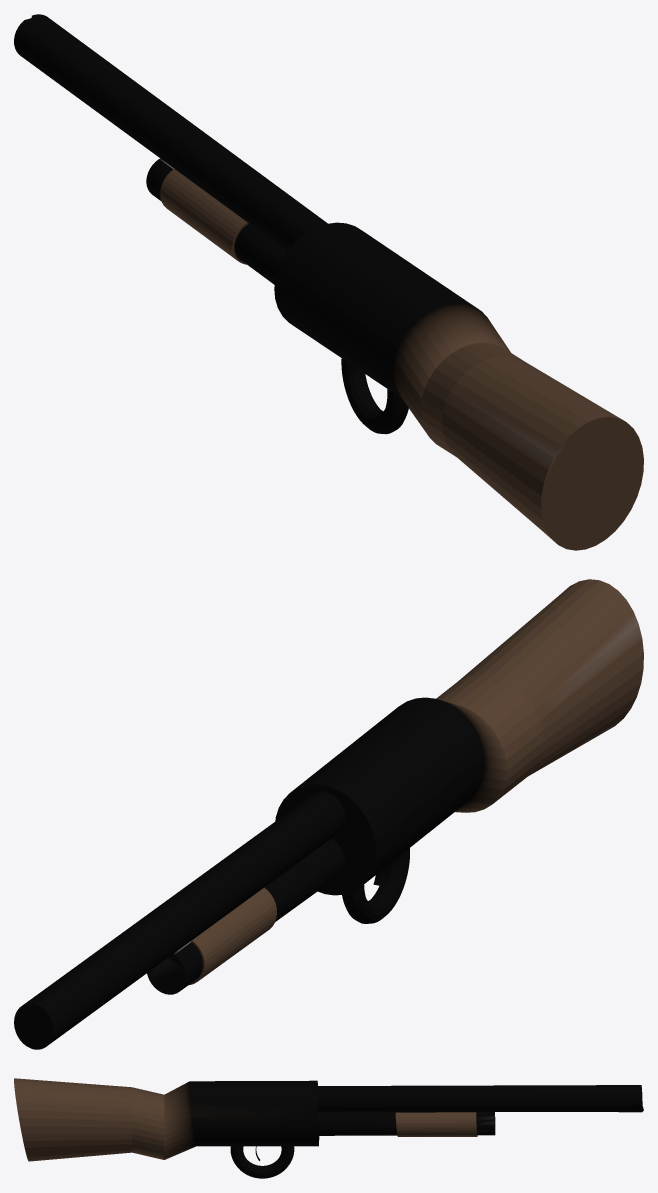
File: Gun.gltf
3 renders of one model, top to bottom at view 1: azimuth 30°, elevation 25°; view 2: azimuth 150°, elevation 25°; view 3: azimuth 270°, elevation 25°, orthographic. The views are drawn at different scales.
Parts seen in each view (by area): view 1: Cylinder; view 2: Cylinder; view 3: Cylinder.
Boxes of the visible parts, x1,y1,x2,y2 form: Cylinder: (14,14,643,550); Cylinder: (14,579,643,1049); Cylinder: (14,1078,643,1178).
Bounding box in the file's own units: 2.15 × 3.29 × 19.24.
